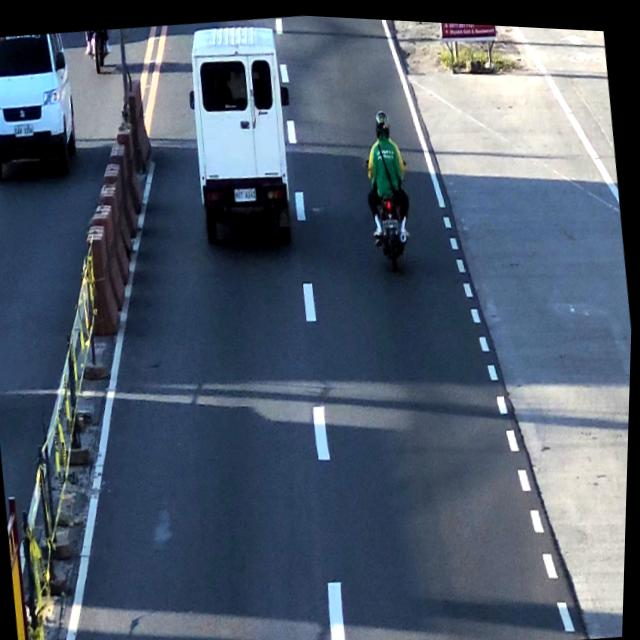Car: (176, 10, 304, 242)
License-Plate: (234, 182, 261, 202)
Motorcycle: (359, 94, 418, 264)
